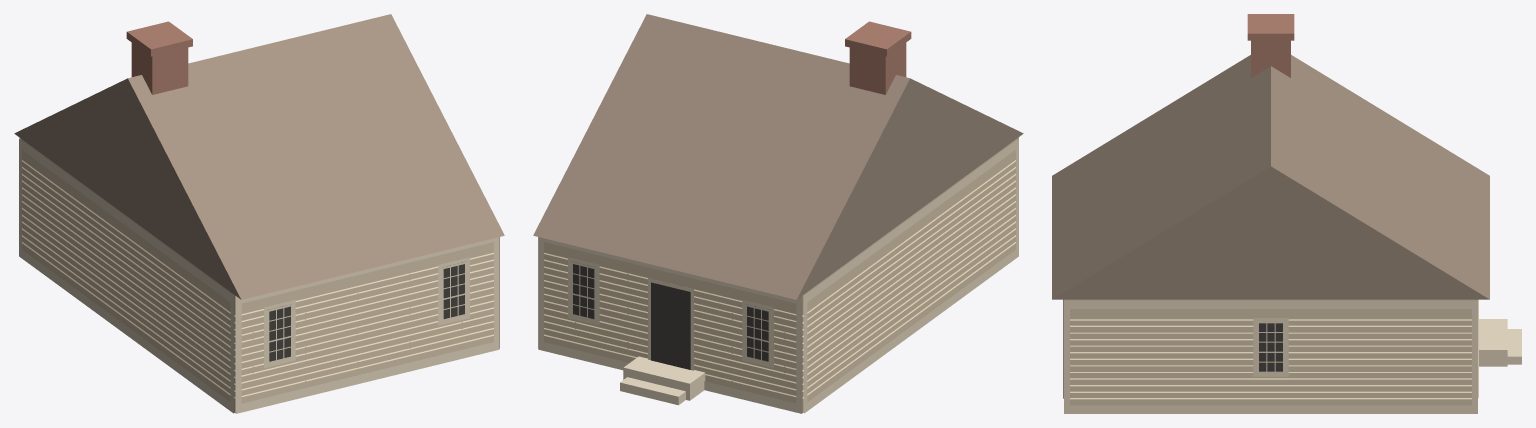
The model's file is recon_1835_blk_school_section_tier_94_d4_03__inferred_1835.glb.
3 renders of one model, left to right at view 1: azimuth 30°, elevation 25°; view 2: azimuth 150°, elevation 25°; view 3: azimuth 270°, elevation 25°, orthographic. The views are drawn at different scales.
Visible parts, largest first — view 1: recon_1835_blk_school_section_tier_94_d4_03__inferred_1835; view 2: recon_1835_blk_school_section_tier_94_d4_03__inferred_1835; view 3: recon_1835_blk_school_section_tier_94_d4_03__inferred_1835.
Boxes of the visible parts, x1,y1,x2,y2 form: recon_1835_blk_school_section_tier_94_d4_03__inferred_1835: (14,14,504,413); recon_1835_blk_school_section_tier_94_d4_03__inferred_1835: (533,14,1023,413); recon_1835_blk_school_section_tier_94_d4_03__inferred_1835: (1052,14,1521,413).
Size of the model in its own units: 6.23 by 6.5 by 9.85.
